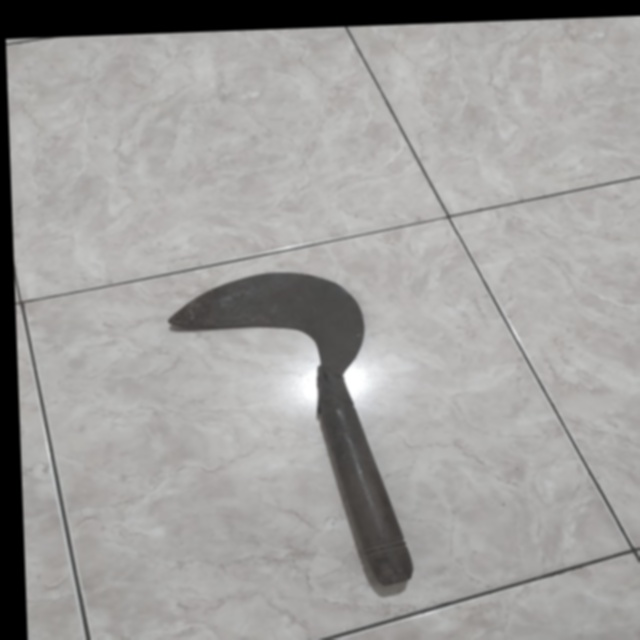Sharp-Object: (160, 260, 430, 608)
